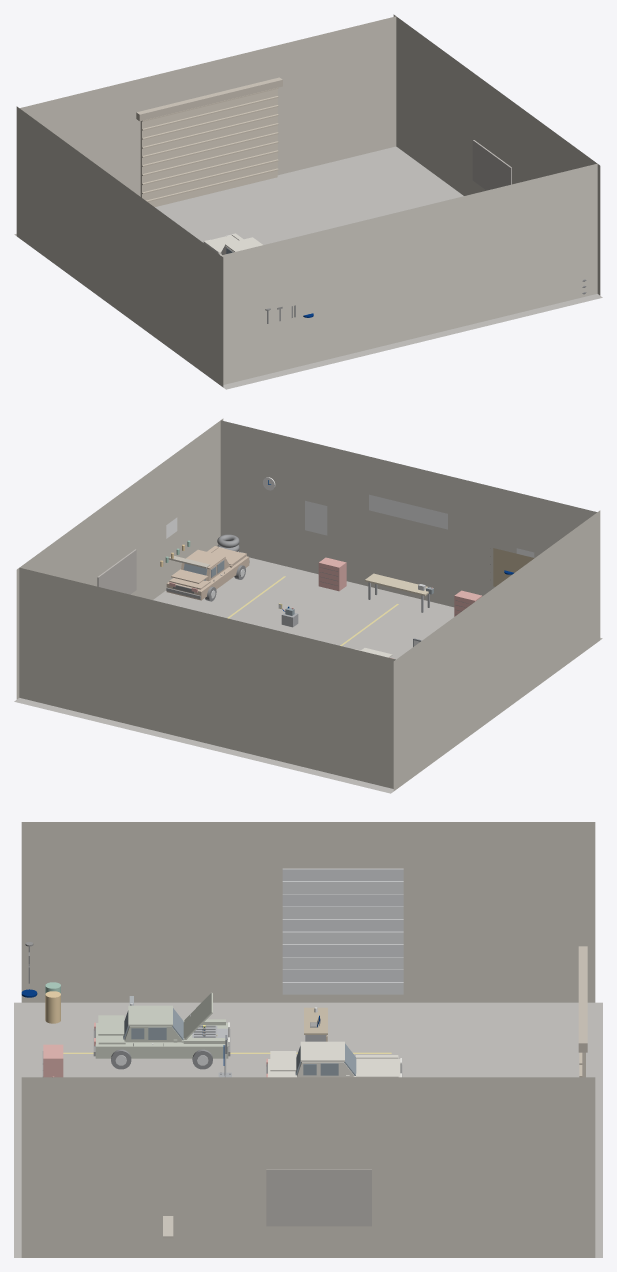
3 renders of one model, top to bottom at view 1: azimuth 30°, elevation 25°; view 2: azimuth 150°, elevation 25°; view 3: azimuth 270°, elevation 25°, orthographic. The views are drawn at different scales.
Bounding box in the file's own units: 21.6 × 6.61 × 19.5.
